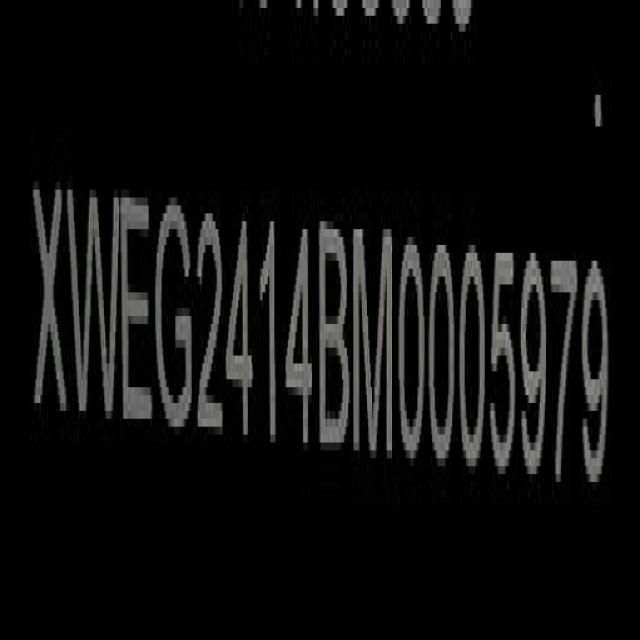0: (426, 225, 456, 474), (396, 220, 426, 466), (458, 234, 487, 465)
1: (257, 214, 280, 454)
2: (195, 199, 225, 451)
4: (225, 202, 254, 451), (285, 225, 314, 462)
5: (489, 234, 516, 483)
7: (550, 243, 576, 477)
9: (518, 248, 548, 492), (582, 254, 612, 486)
B: (318, 222, 351, 466)
E: (120, 187, 155, 451)
G: (154, 193, 194, 460)
M: (351, 225, 394, 466)
W: (66, 170, 122, 450)
X: (33, 176, 67, 444)
